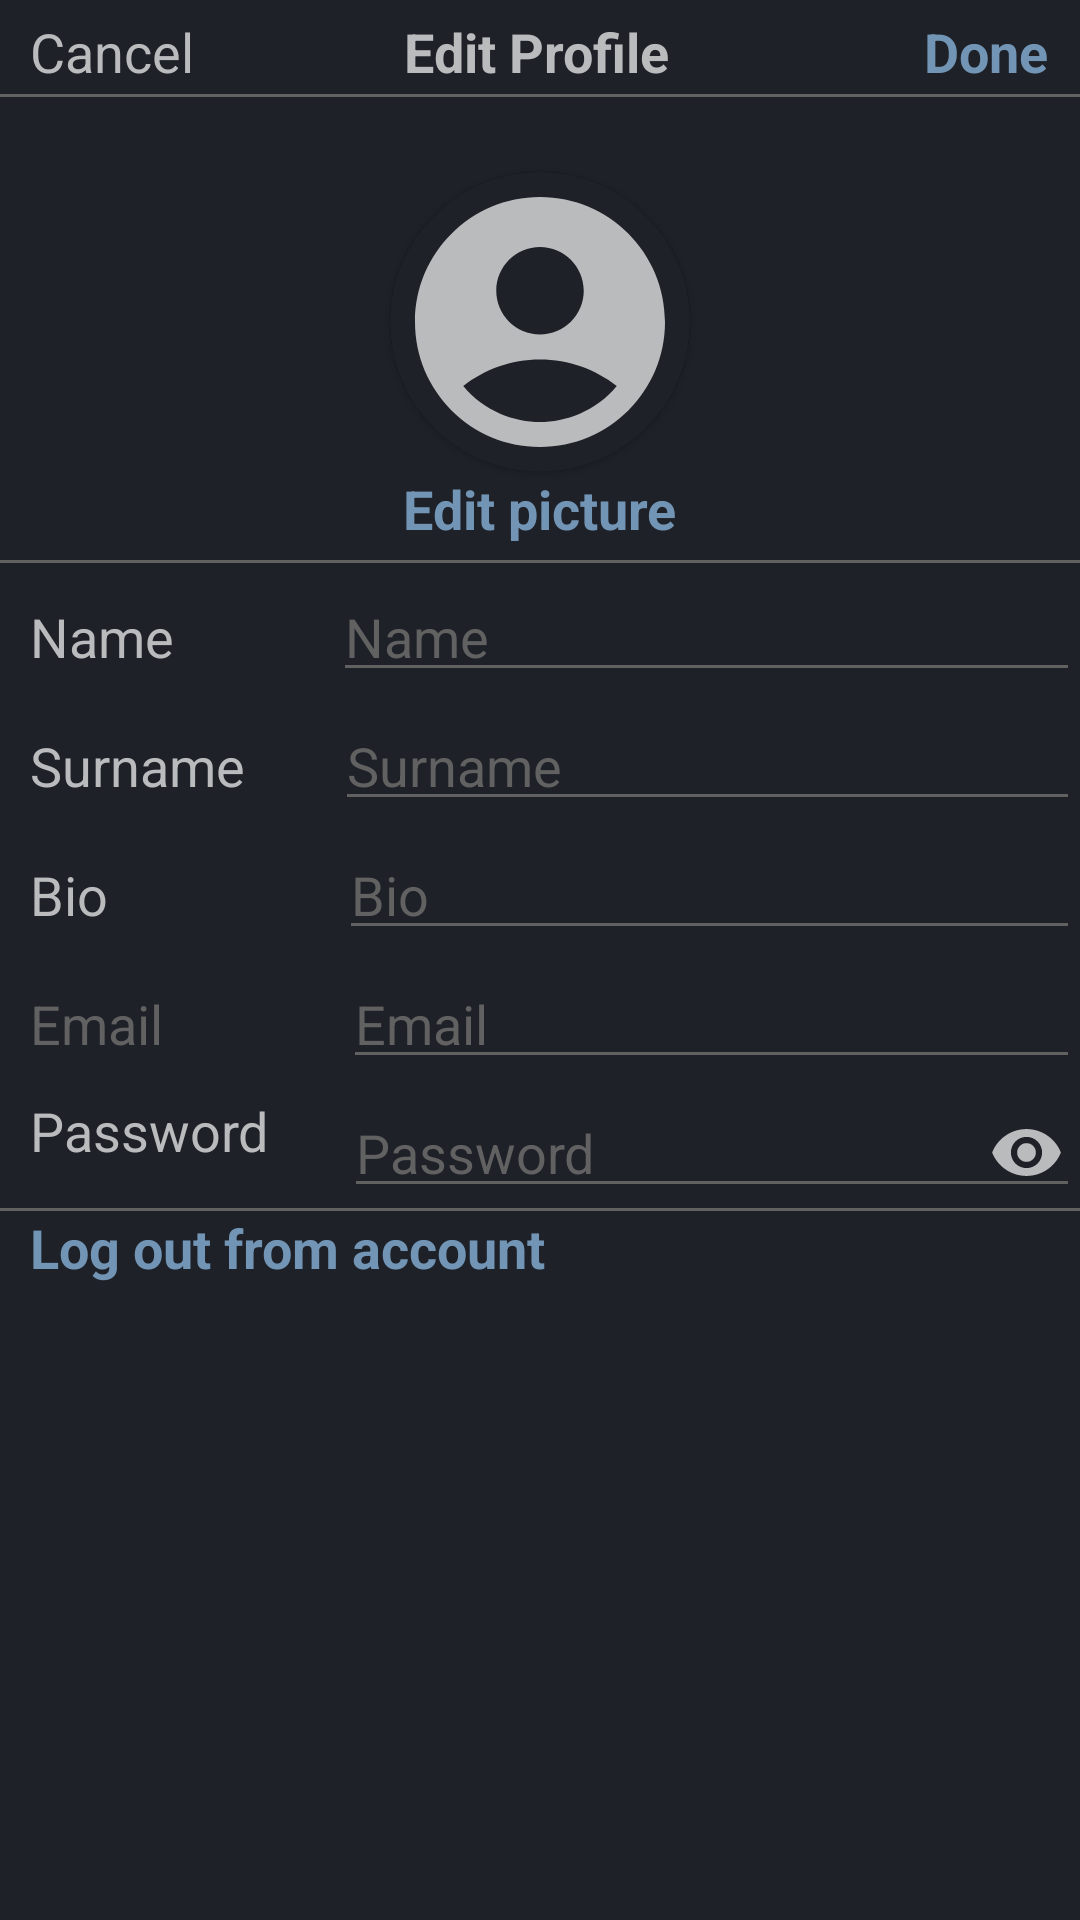

Point at icon controls on the screen. Image size 1080 x 1920, points as point (x, y).
account: point (540, 322)
eye: point (1026, 1152)
